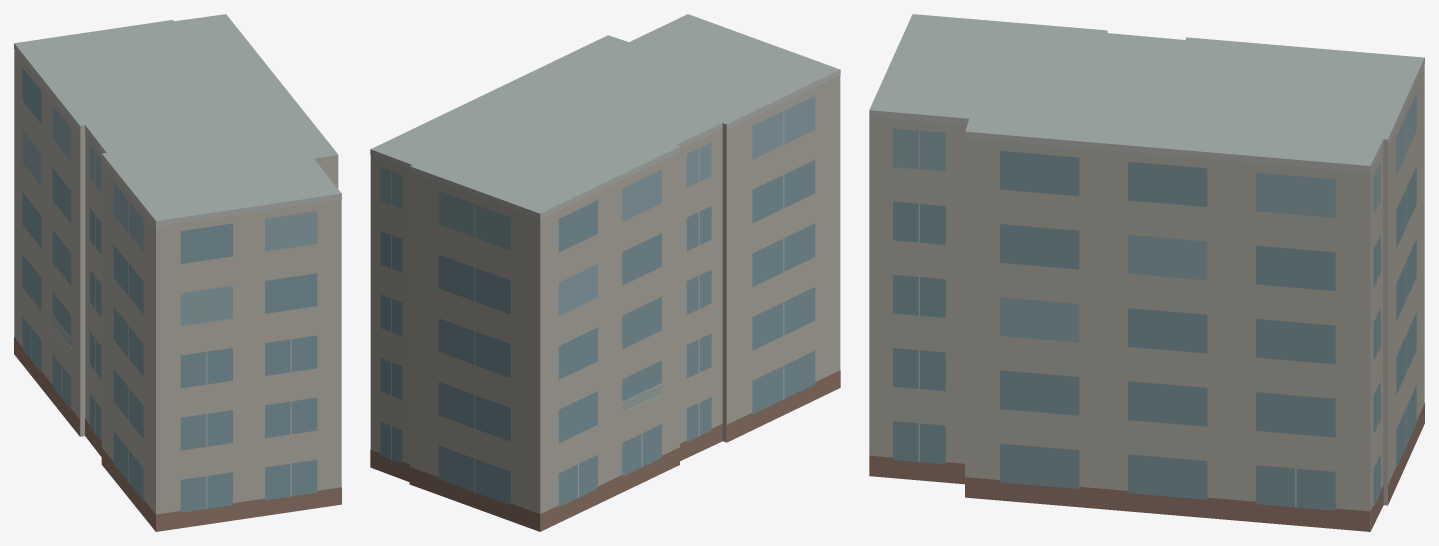
File: survey-upis-32653339.glb
3 renders of one model, left to right at view 1: azimuth 30°, elevation 25°; view 2: azimuth 150°, elevation 25°; view 3: azimuth 270°, elevation 25°, orthographic. The views are drawn at different scales.
Parts seen in each view (by area): view 1: survey-upis-32653339.tmp; view 2: survey-upis-32653339.tmp; view 3: survey-upis-32653339.tmp.
Part boxes in pixels (x1,y1,x2,y2): survey-upis-32653339.tmp: (14, 14, 341, 531); survey-upis-32653339.tmp: (370, 14, 840, 531); survey-upis-32653339.tmp: (869, 14, 1424, 531).
Bounding box in the file's own units: 11.84 × 13.28 × 18.28.
